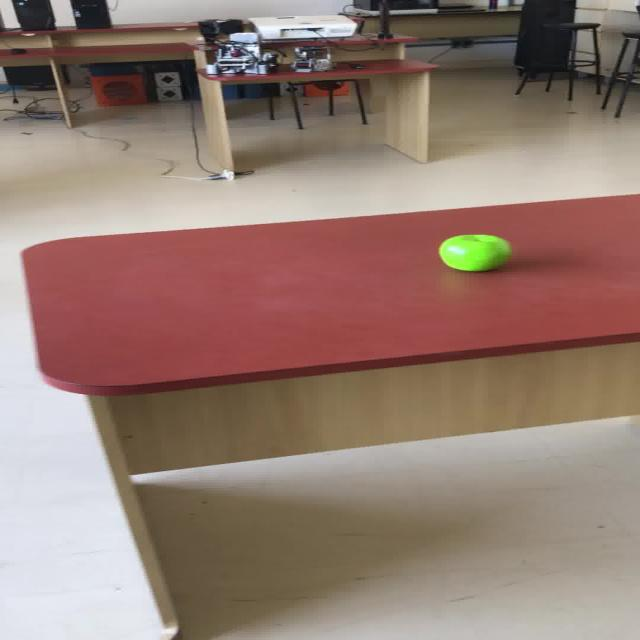apple: (437, 234, 510, 272)
